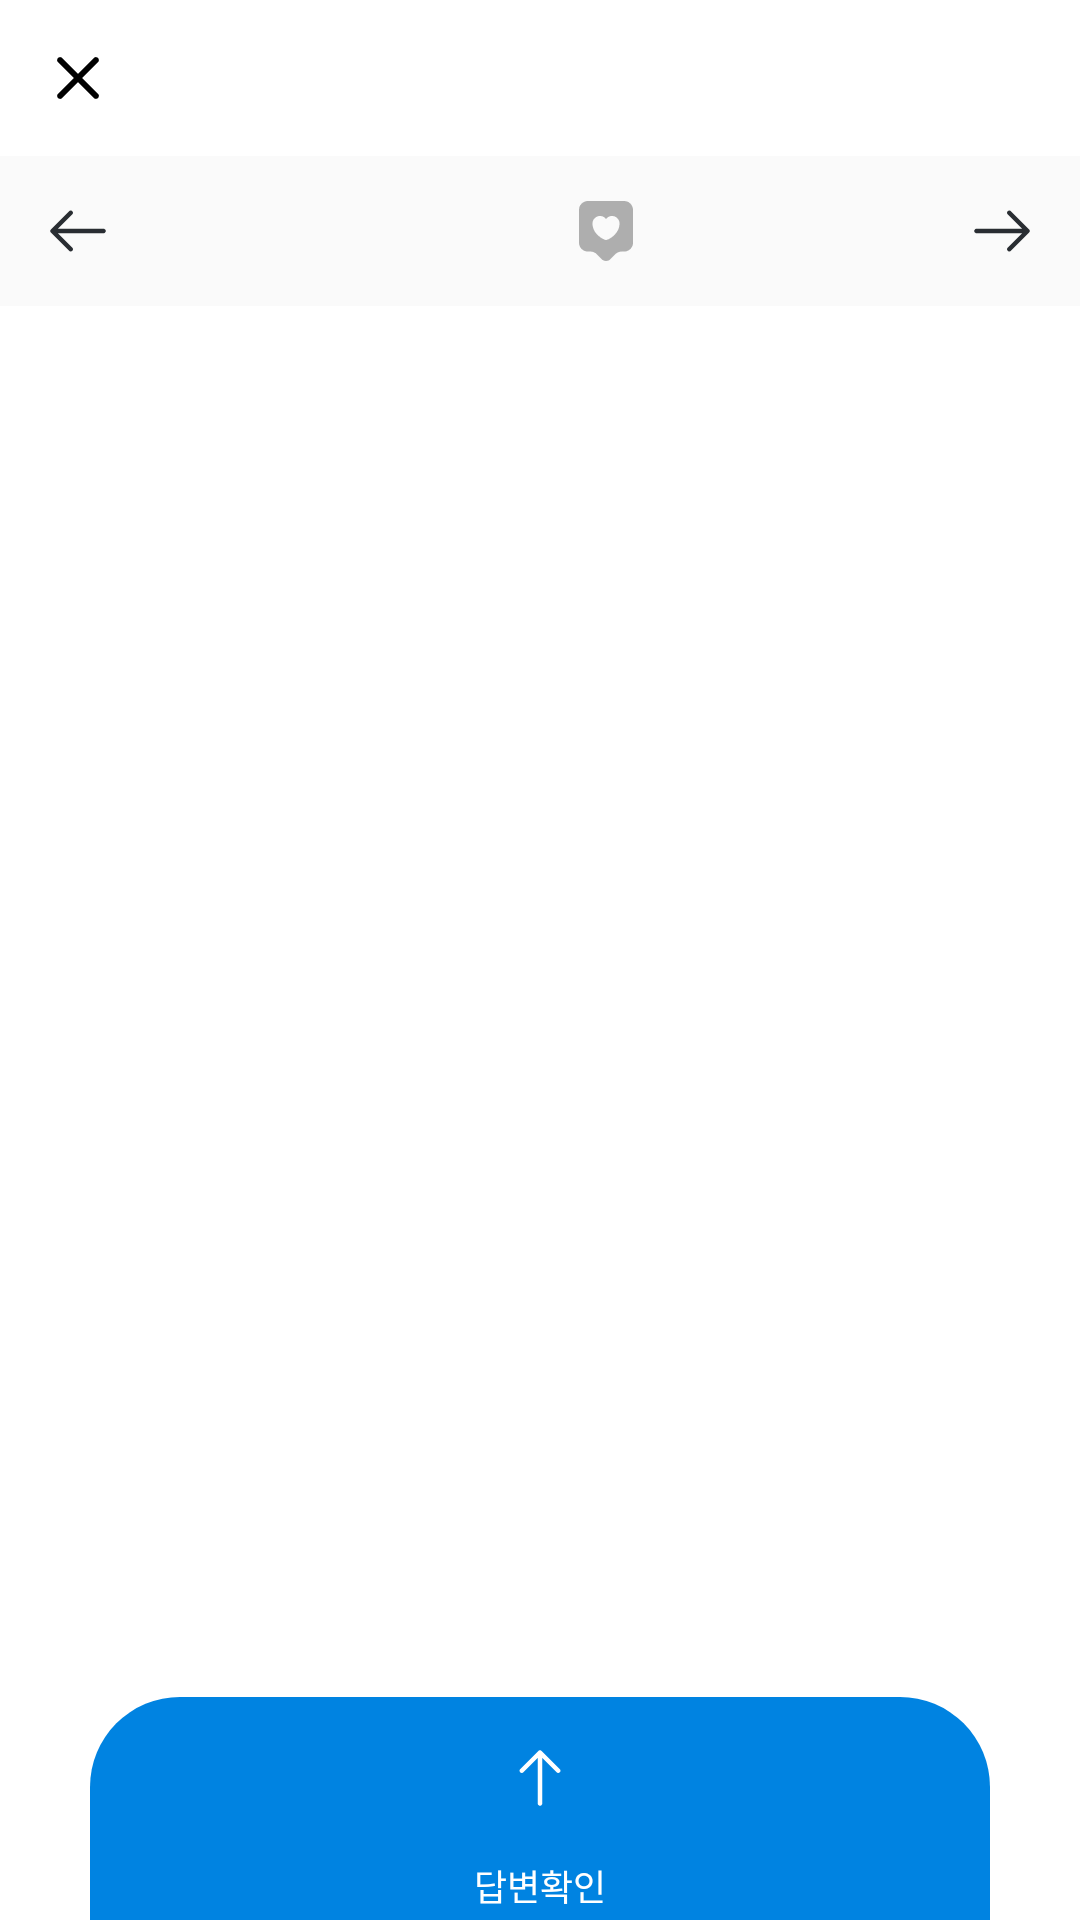

Icons on this 1080px×1920px Android screen, each with its box as (x1,y1,x2,y2):
close: (57,57,99,99)
favorite: (579,201,633,261)
left: (50,210,106,252)
right: (974,210,1030,252)
